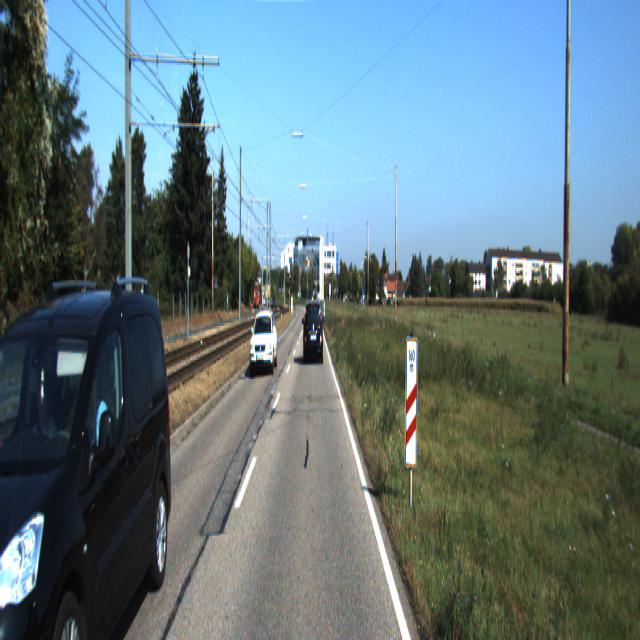Car: (0, 270, 183, 638), (32, 309, 82, 380), (76, 305, 123, 367), (250, 310, 279, 374), (304, 298, 324, 364)
